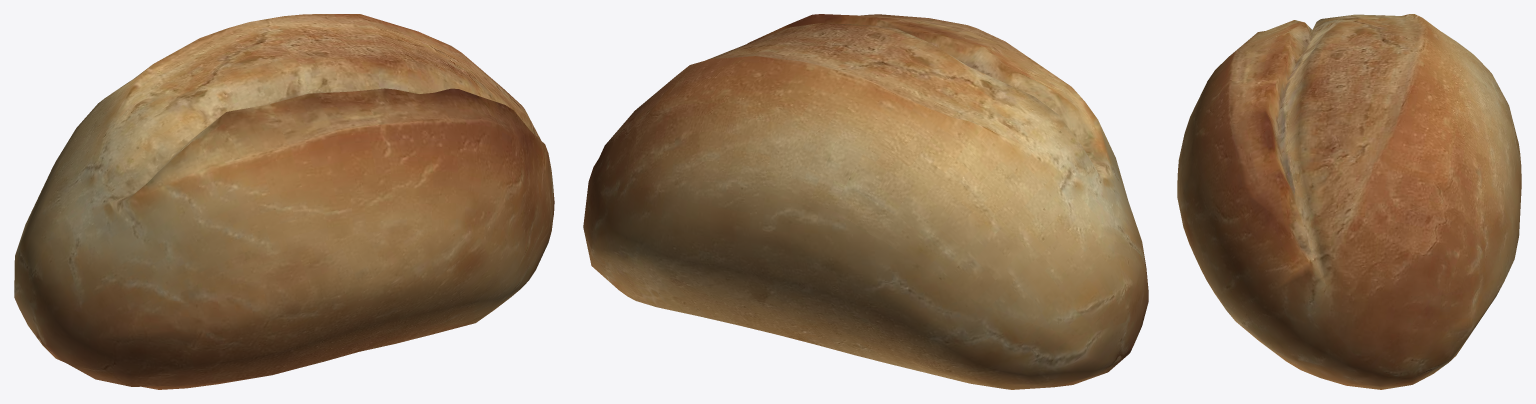
File: bread_loaf.glb
3 views of the same model, side by side, from view 1: azimuth 30°, elevation 25°; view 2: azimuth 150°, elevation 25°; view 3: azimuth 270°, elevation 25° (orthographic). The views are drawn at different scales.
Visible parts, largest first — view 1: Plane_baton)1)mat_0; view 2: Plane_baton)1)mat_0; view 3: Plane_baton)1)mat_0.
Part boxes in pixels (x1,y1,x2,y2): Plane_baton)1)mat_0: [14, 14, 554, 389]; Plane_baton)1)mat_0: [583, 14, 1148, 389]; Plane_baton)1)mat_0: [1177, 14, 1521, 389].
Size of the model in its own units: 40.53 by 21.52 by 26.26.
1 material, 1 textured.
